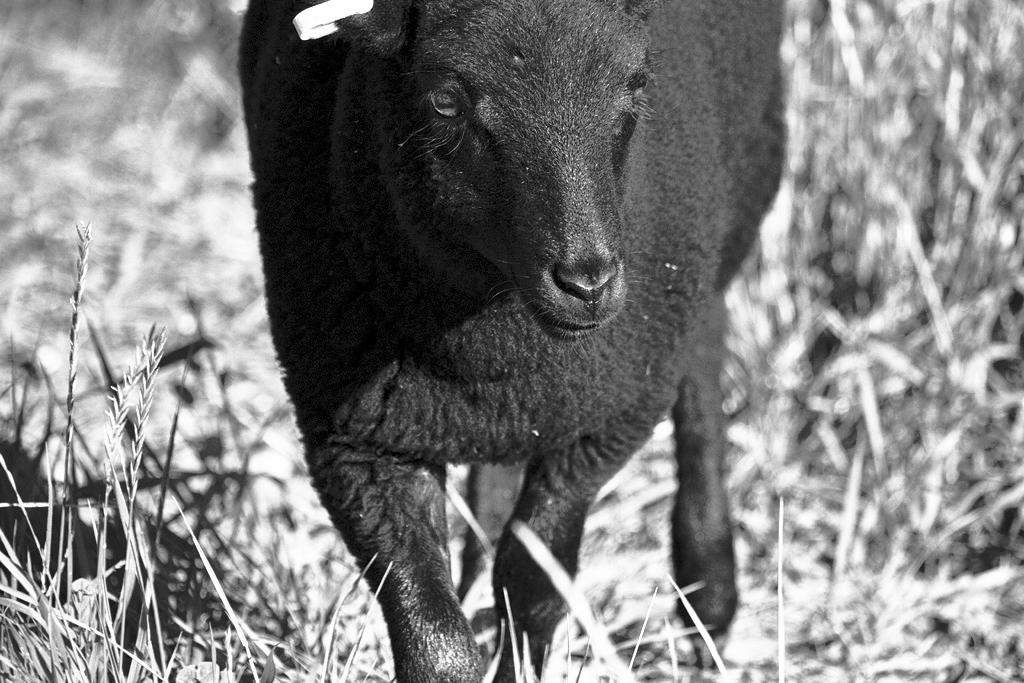Sheep: (204, 0, 782, 683)
